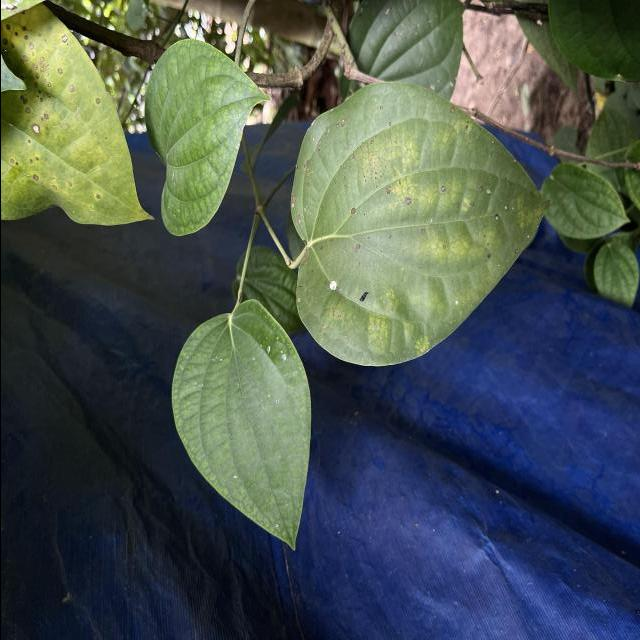Piper nigrum: (287, 79, 552, 368), (168, 296, 312, 554), (142, 38, 272, 239)
